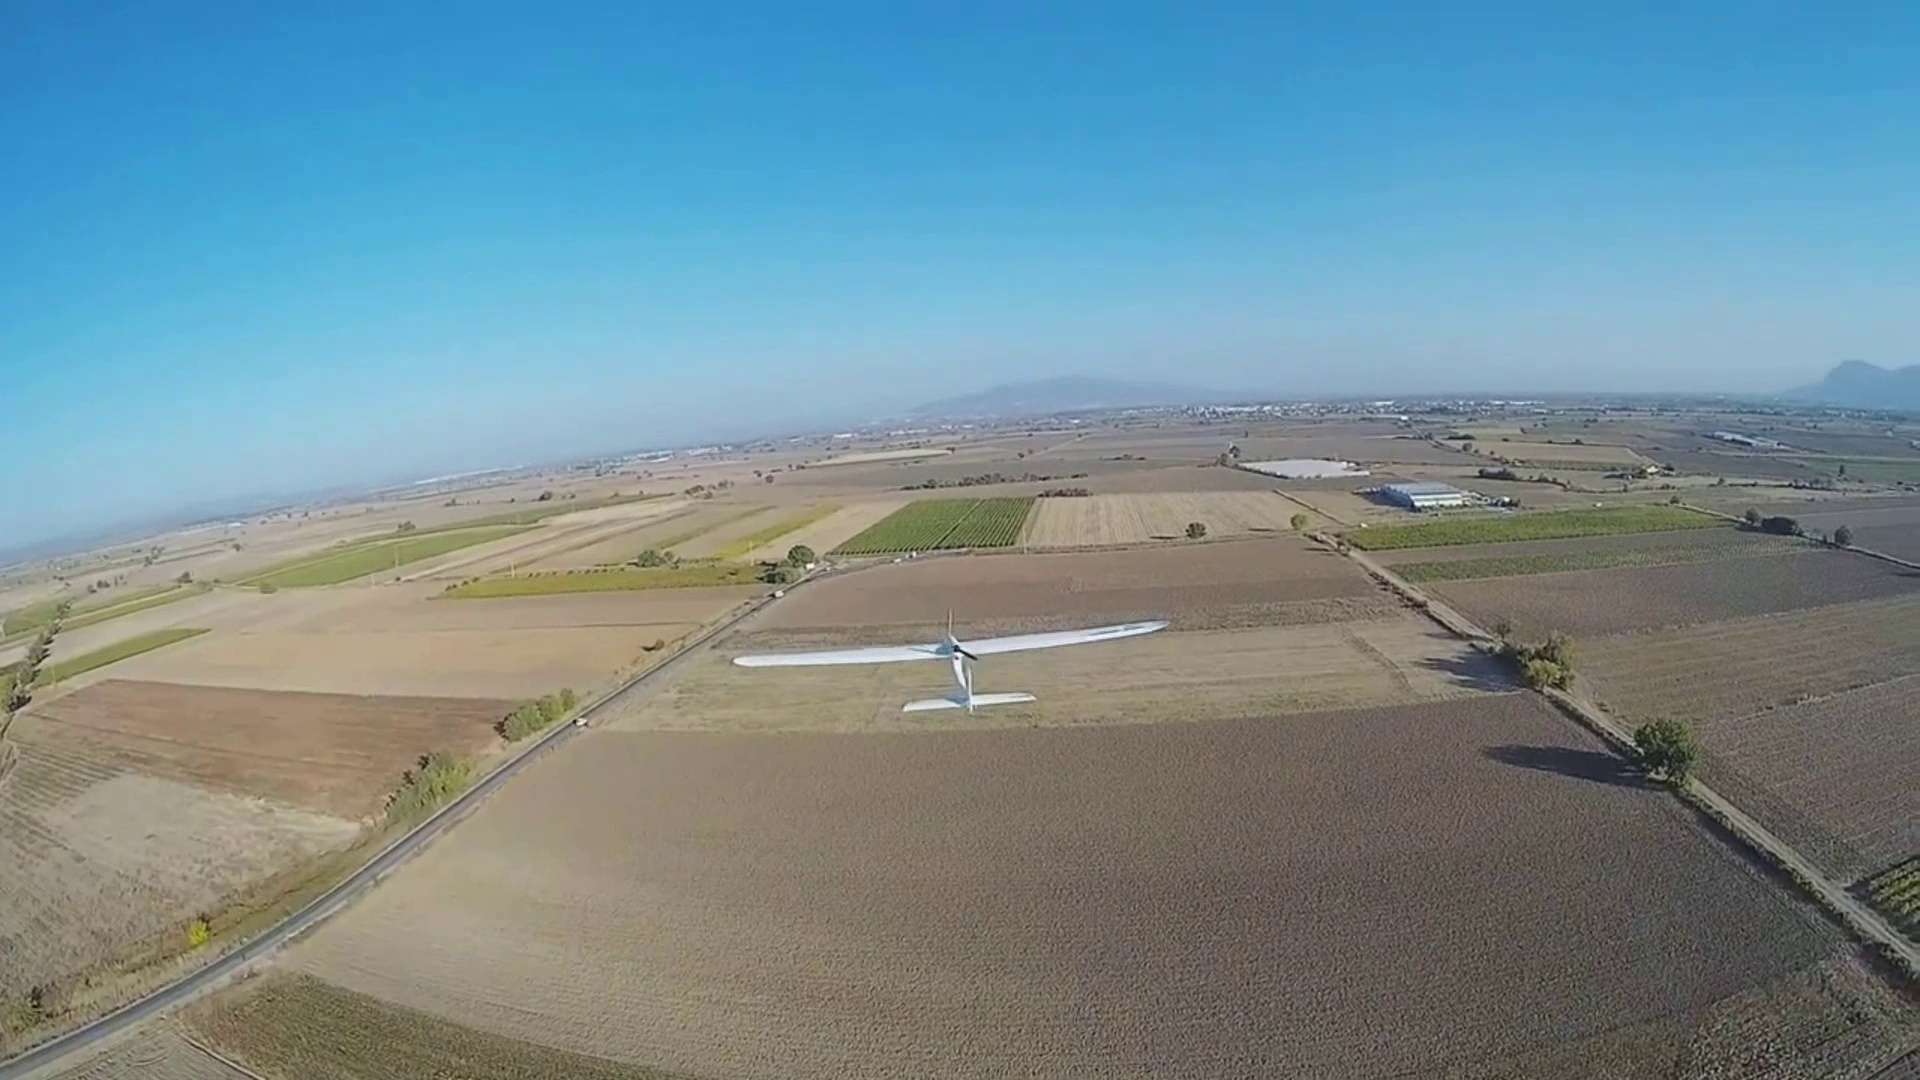airplane: (899, 612, 1176, 717)
